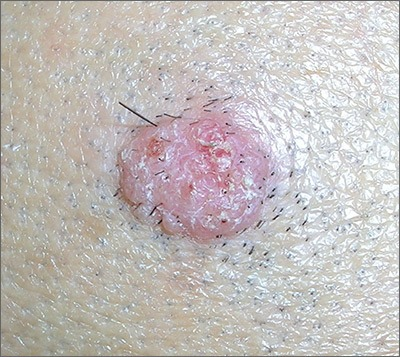Warts: (100, 79, 289, 264)
